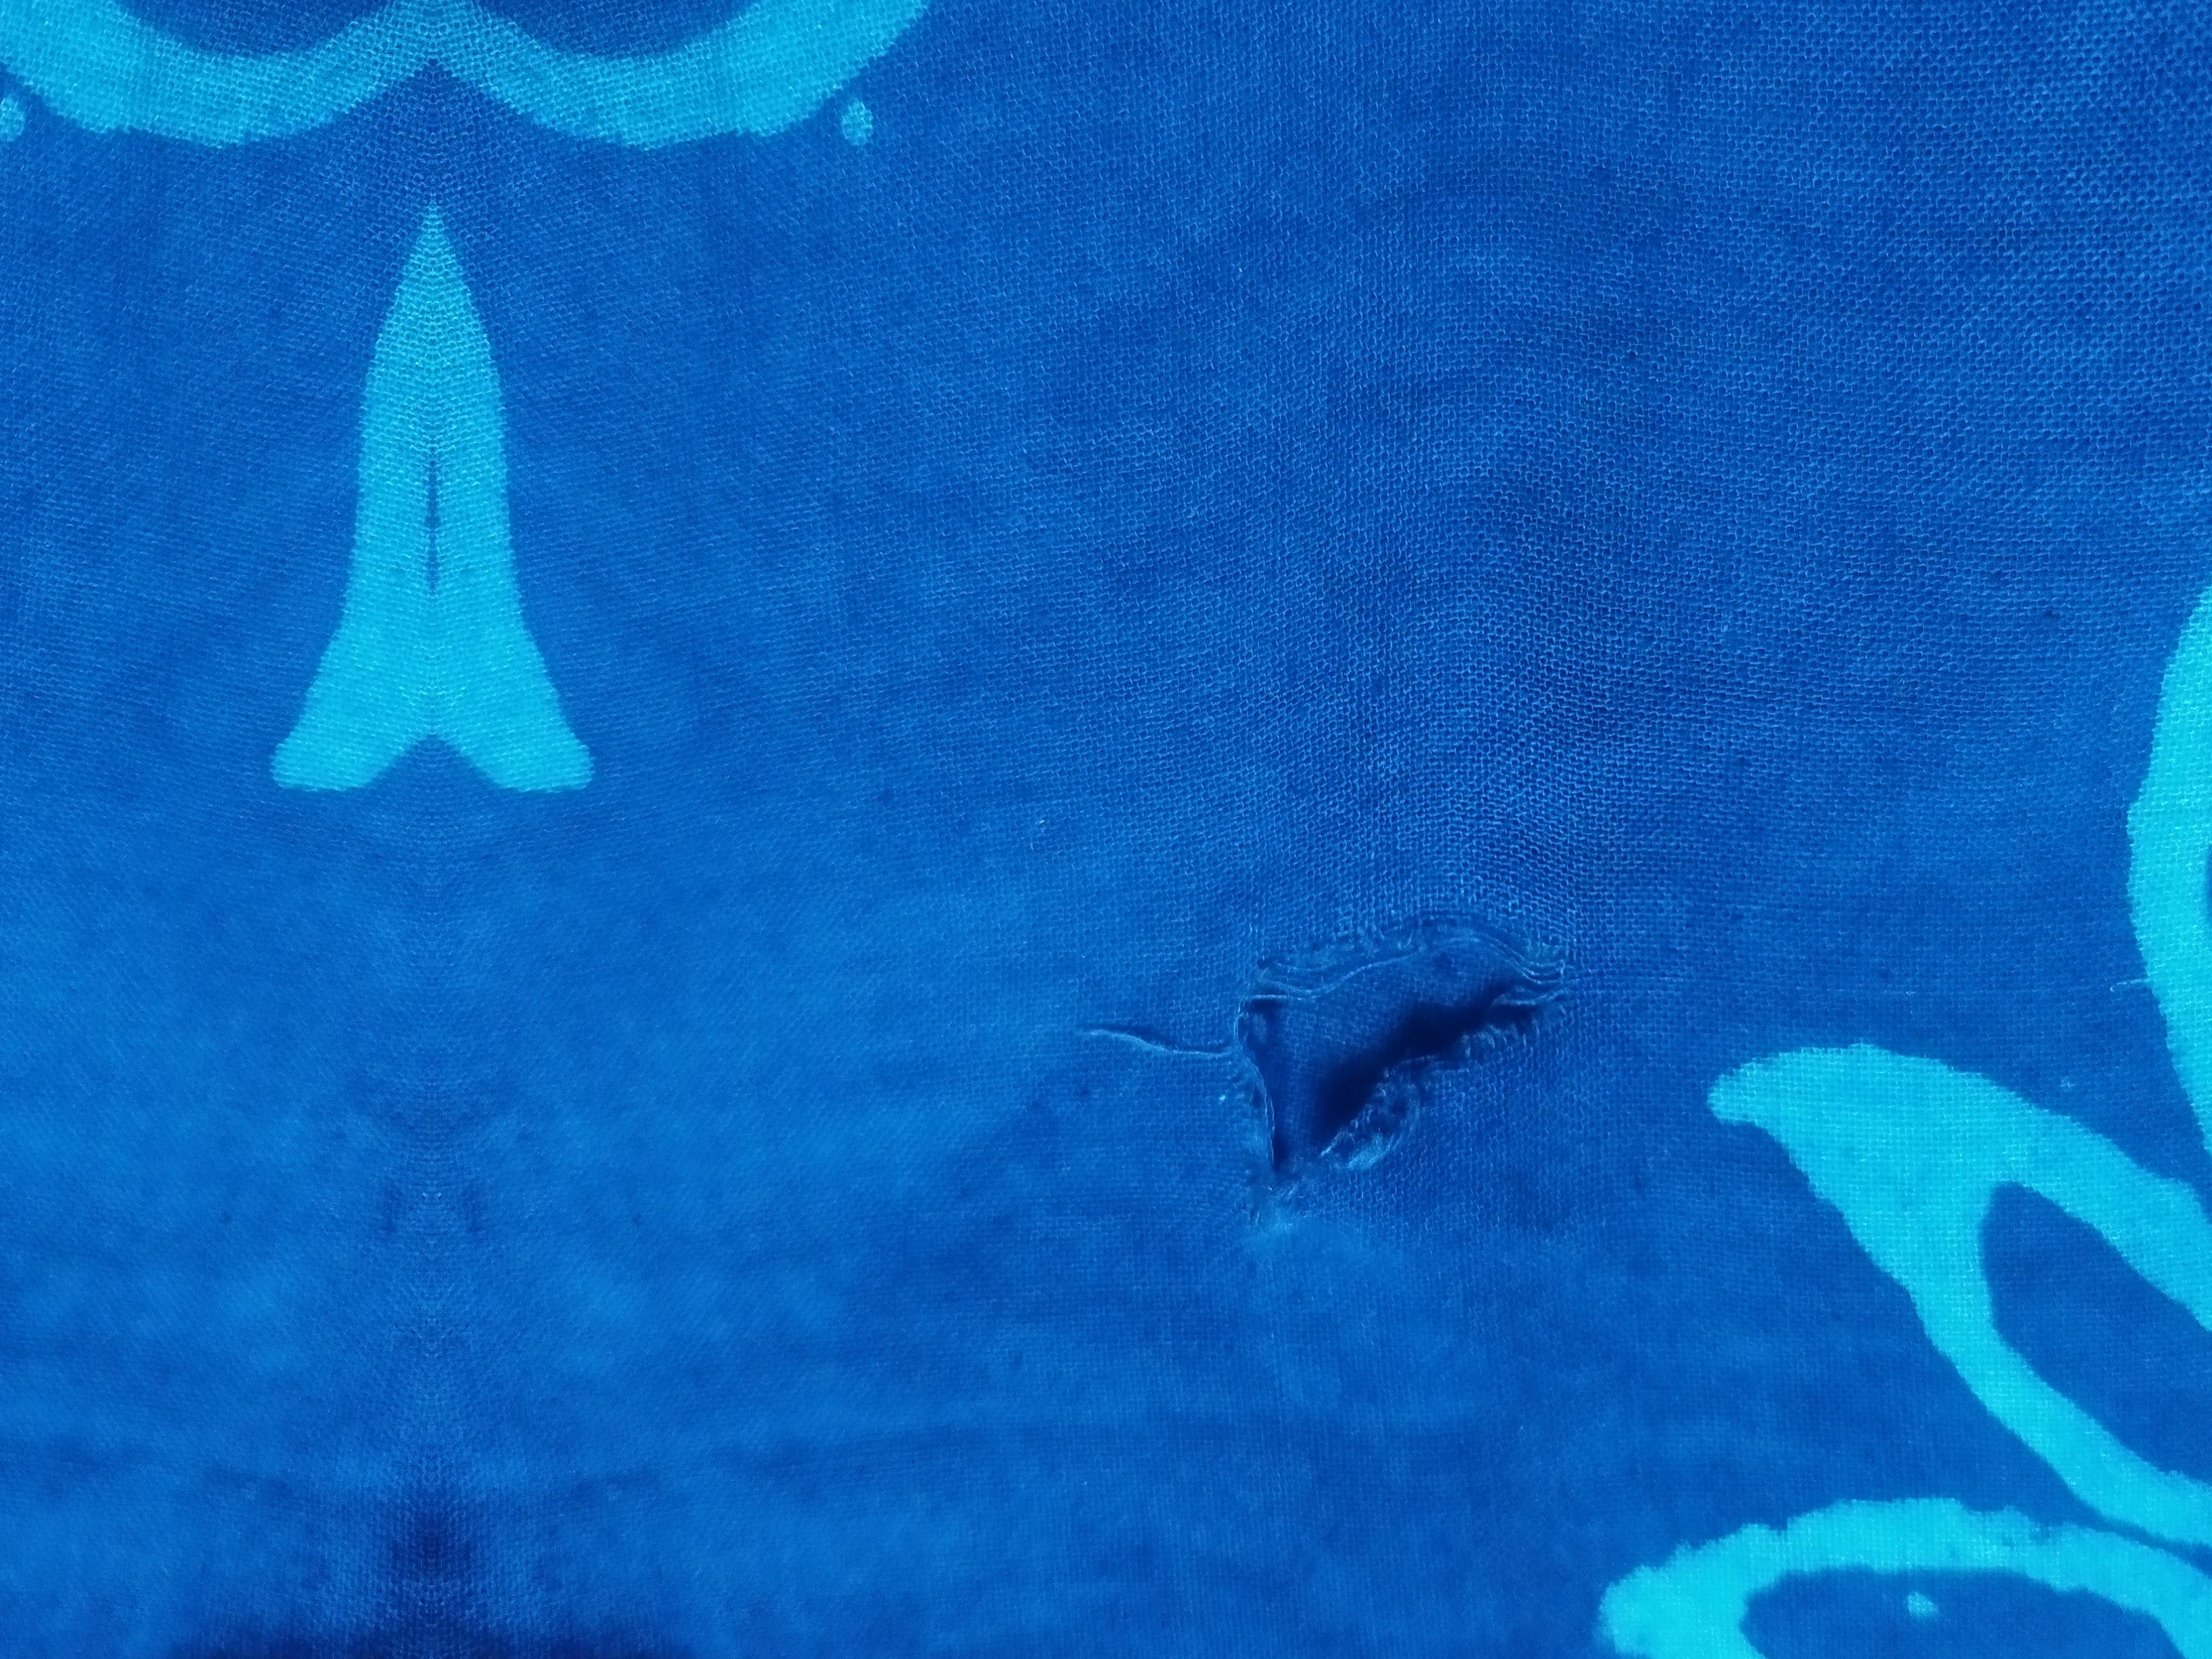hole: (1195, 892, 1592, 1195)
